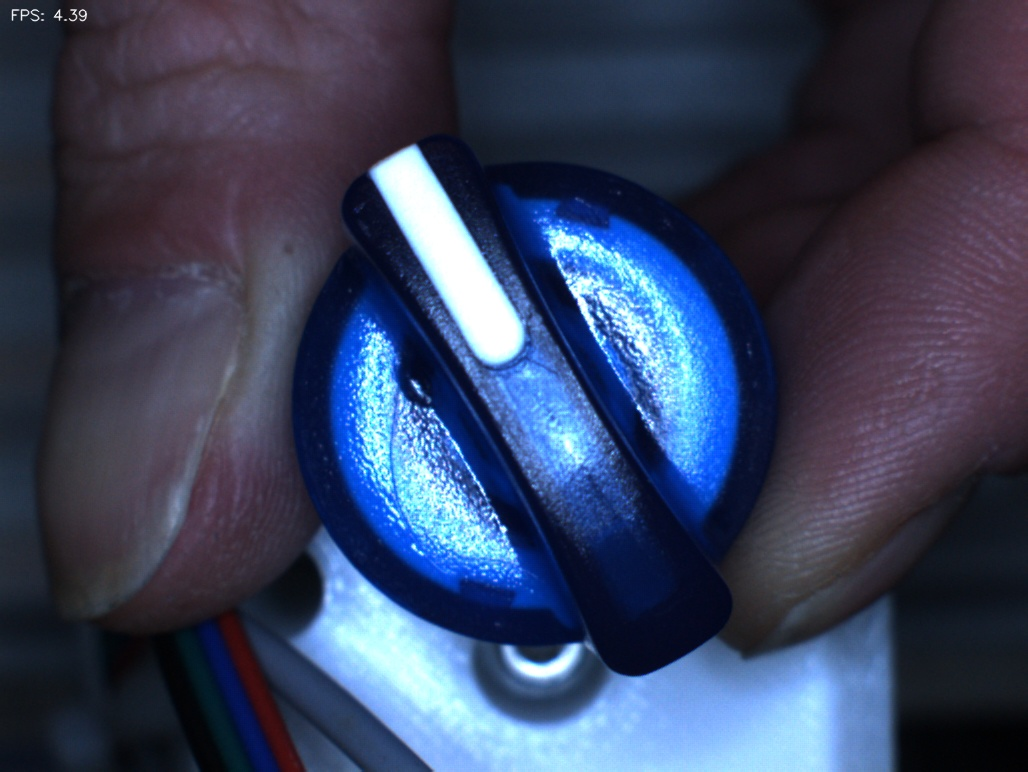Choc: (376, 340, 465, 429)
